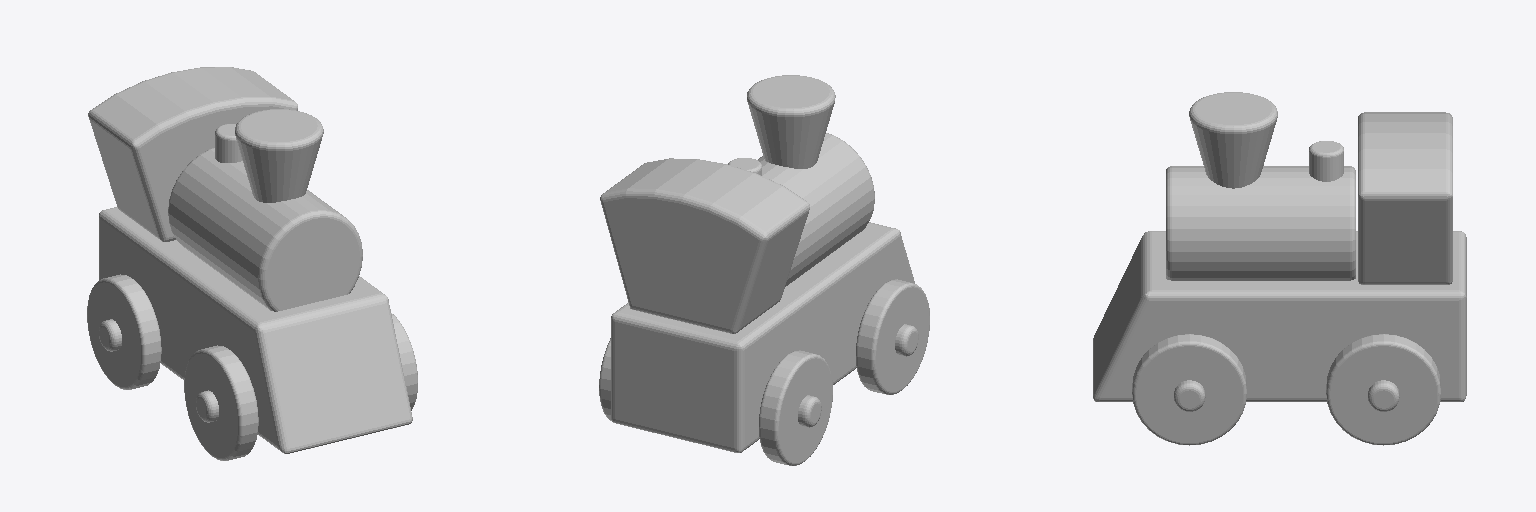
The model's file is toy-train.obj.
3 views of the same model, side by side, from view 1: azimuth 30°, elevation 25°; view 2: azimuth 150°, elevation 25°; view 3: azimuth 270°, elevation 25° (orthographic).
Parts seen in each view (by area): view 1: Body, Yellow_Cylinder, Back_Cube, Wheels, Chuchu, Wheel_Chromes, Blue_Cylinder; view 2: Body, Back_Cube, Wheels, Yellow_Cylinder, Chuchu, Wheel_Chromes; view 3: Body, Yellow_Cylinder, Wheels, Back_Cube, Chuchu, Wheel_Chromes, Blue_Cylinder.
Part boxes in pixels (left/top/right/bottom): Body: left=99, top=207, right=412, bottom=453; Yellow_Cylinder: left=168, top=148, right=362, bottom=311; Back_Cube: left=88, top=67, right=297, bottom=241; Wheels: left=87, top=274, right=417, bottom=460; Chuchu: left=235, top=109, right=323, bottom=202; Wheel_Chromes: left=99, top=319, right=218, bottom=422; Blue_Cylinder: left=215, top=124, right=242, bottom=162; Body: left=611, top=222, right=914, bottom=452; Back_Cube: left=600, top=158, right=809, bottom=333; Wheels: left=599, top=279, right=929, bottom=465; Yellow_Cylinder: left=758, top=133, right=874, bottom=286; Chuchu: left=747, top=75, right=835, bottom=168; Wheel_Chromes: left=798, top=324, right=918, bottom=427; Body: left=1093, top=231, right=1466, bottom=401; Yellow_Cylinder: left=1166, top=166, right=1355, bottom=280; Wheels: left=1132, top=334, right=1440, bottom=445; Back_Cube: left=1358, top=112, right=1452, bottom=284; Chuchu: left=1189, top=92, right=1277, bottom=188; Wheel_Chromes: left=1174, top=380, right=1399, bottom=411; Blue_Cylinder: left=1309, top=141, right=1343, bottom=181.
Bounding box in the file's own units: 3 × 4.23 × 4.87.